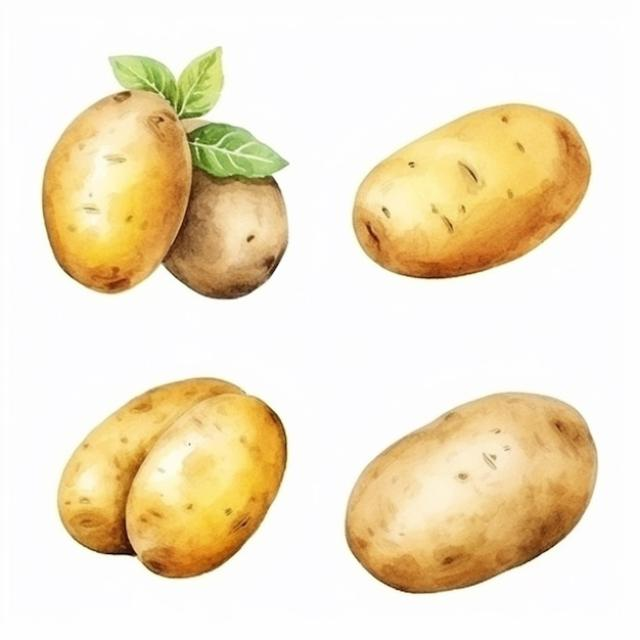Potato: (34, 80, 302, 302), (340, 379, 617, 593), (64, 357, 288, 563)
